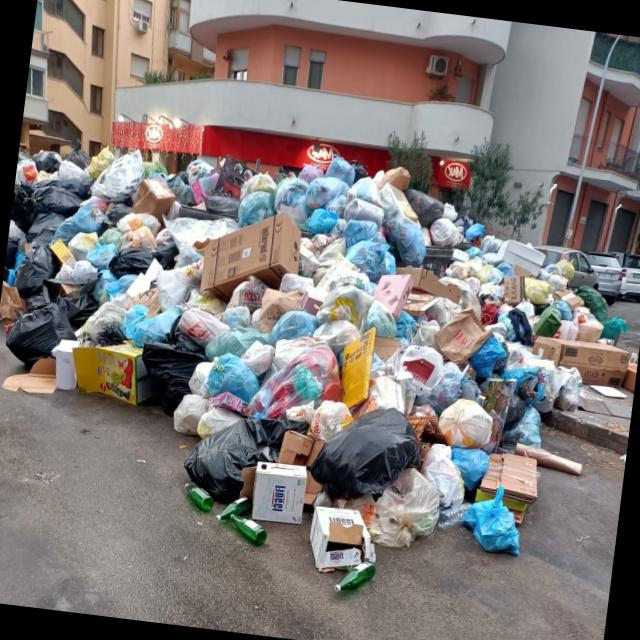garbage: (0, 104, 630, 620)
